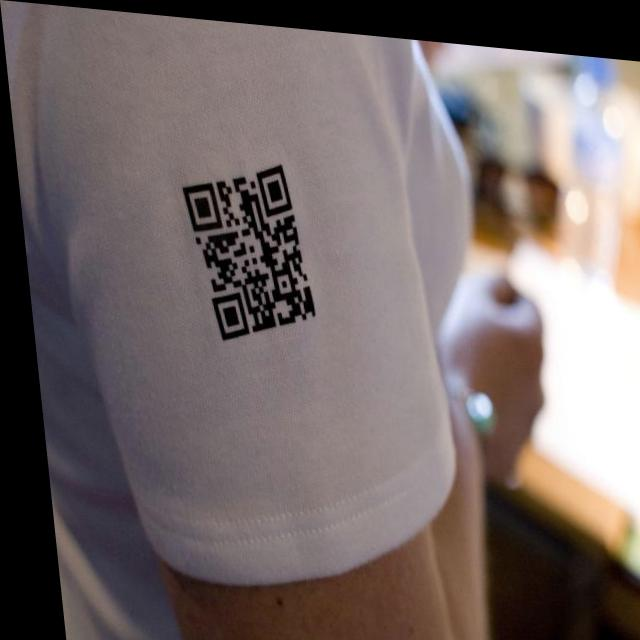qrcode: (177, 153, 314, 345)
